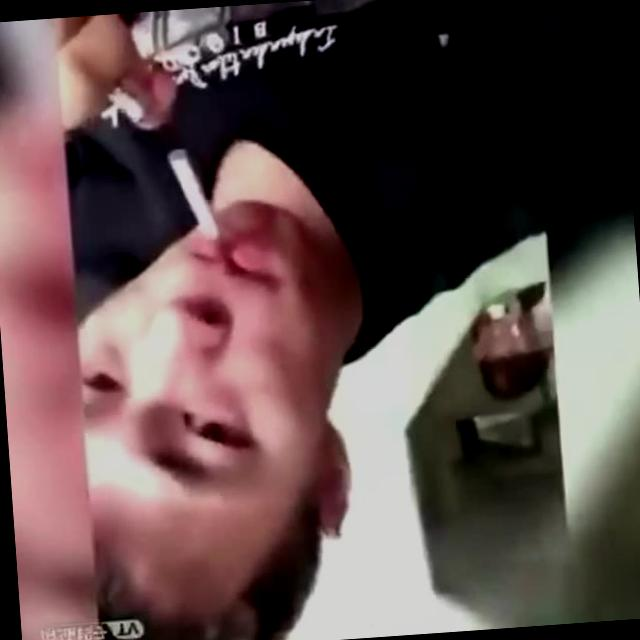cigarette: (166, 144, 222, 243)
